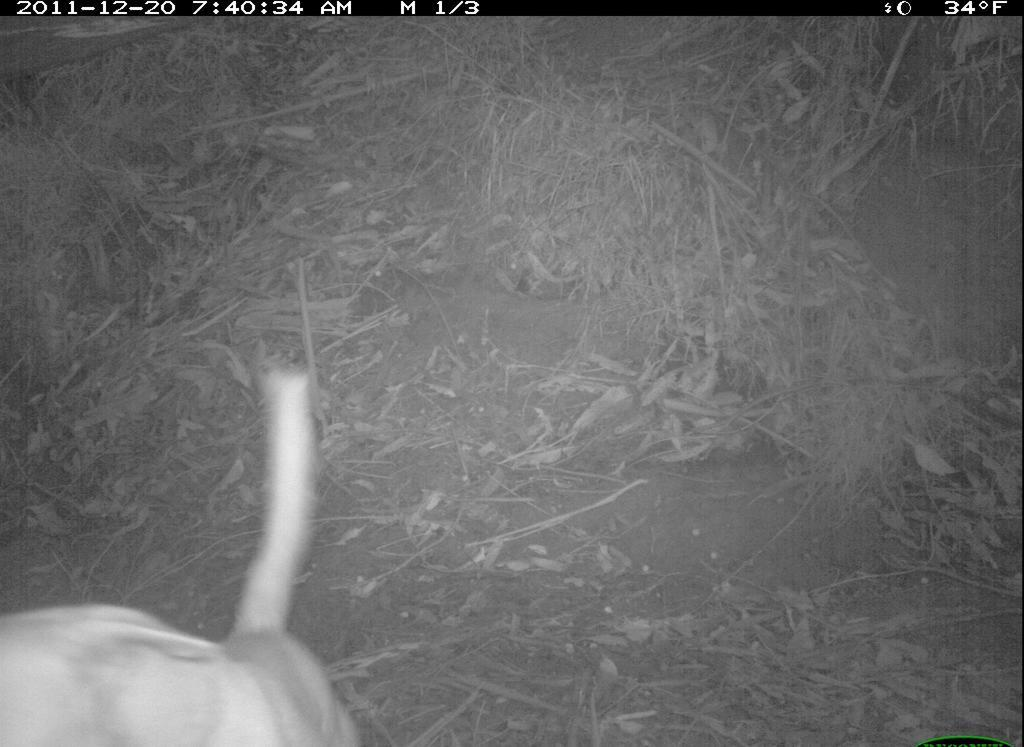dog: (2, 361, 412, 747)
